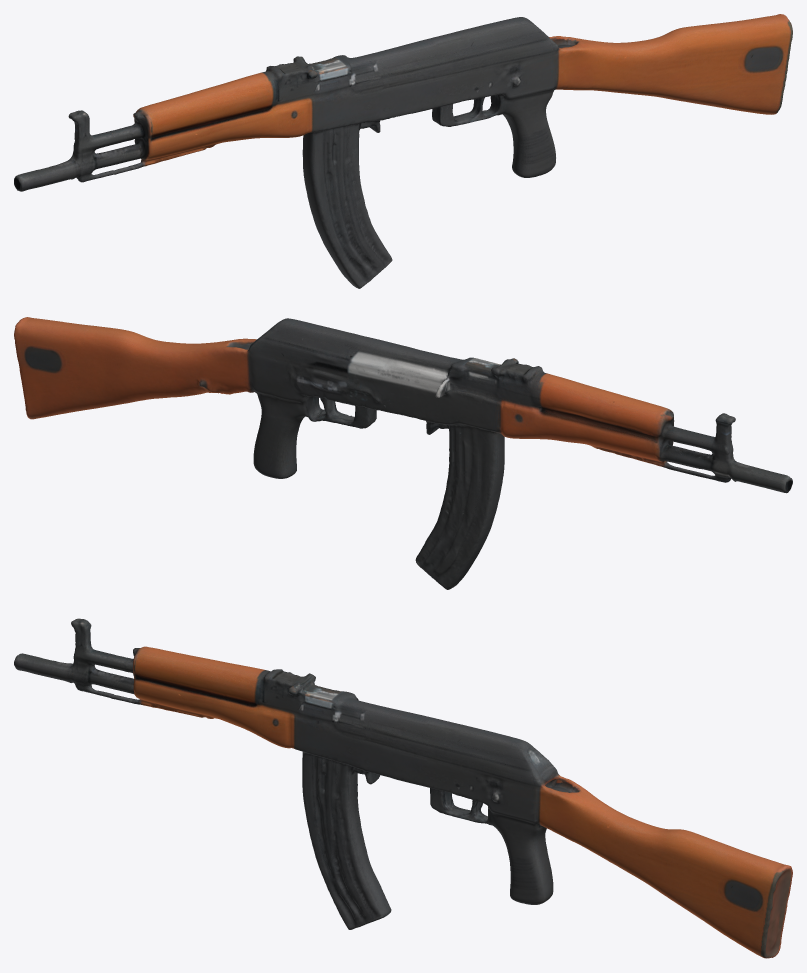
The model's file is ak47_meshy.glb.
The picture shows the model from 3 angles, top to bottom: view 1: azimuth 30°, elevation 25°; view 2: azimuth 150°, elevation 25°; view 3: azimuth 330°, elevation 25°; orthographic projection.
Size of the model in its own units: 2 by 0.5977 by 0.1326.
Materials: 1 (1 with a texture image).
